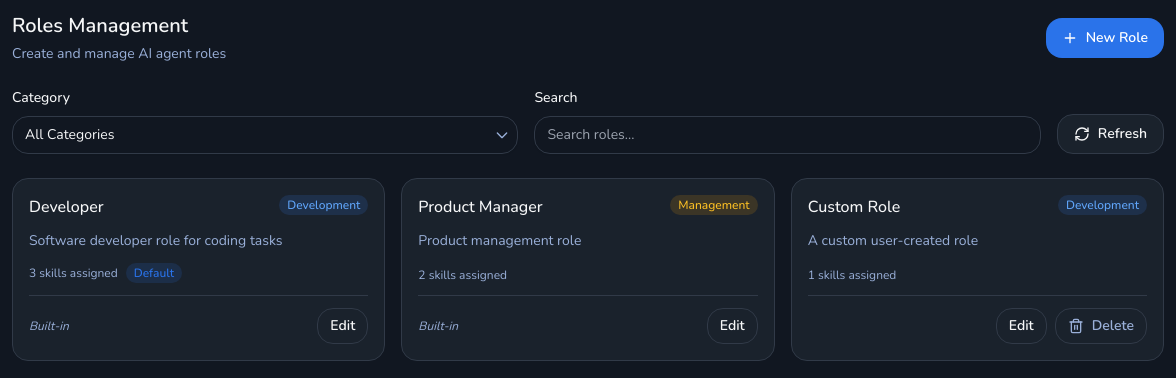
Test case: RolesTab › Search Functionality › should filter roles by display name
Type "Developer" into the field with placeholder "Search roles..." at (788, 135), box [534,116,1041,154]
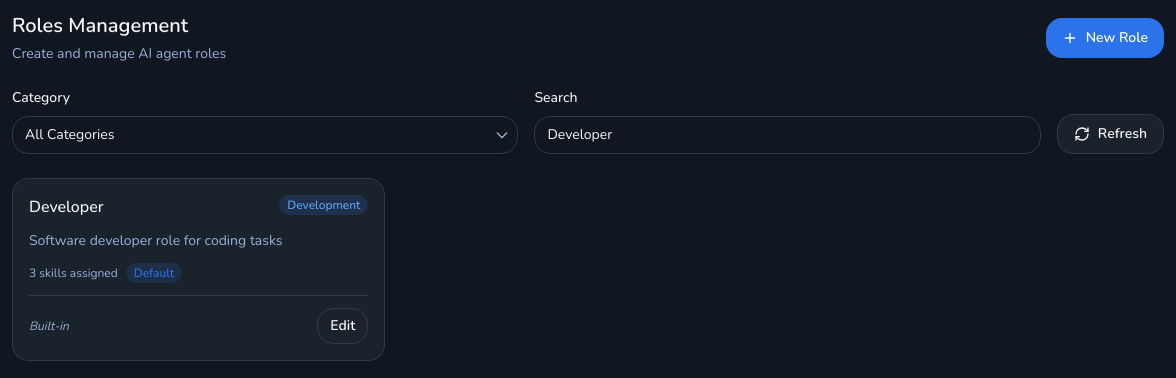
Expected: the heading "Developer" is shown, [29,195,104,219]
Expected: the heading "Product Manager" is gone
